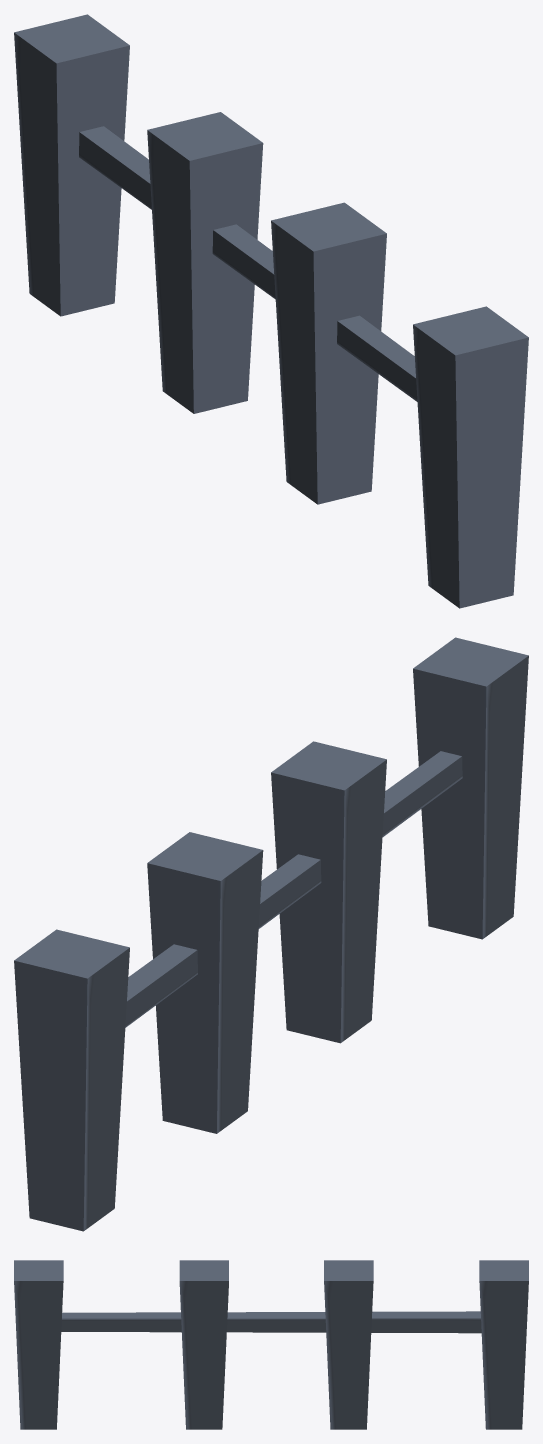
File: sences_zhucheng_zhalan01.FBX
The picture shows the model from 3 angles, top to bottom: view 1: azimuth 30°, elevation 25°; view 2: azimuth 150°, elevation 25°; view 3: azimuth 270°, elevation 25°; orthographic projection. The views are drawn at different scales.
Parts seen in each view (by area): view 1: Object333; view 2: Object333; view 3: Object333.
Part boxes in pixels (<box>): Object333: <box>14,14,528,608</box>; Object333: <box>14,637,528,1231</box>; Object333: <box>14,1260,528,1429</box>.
Size of the model in its own units: 1.03 by 10.74 by 3.49.
